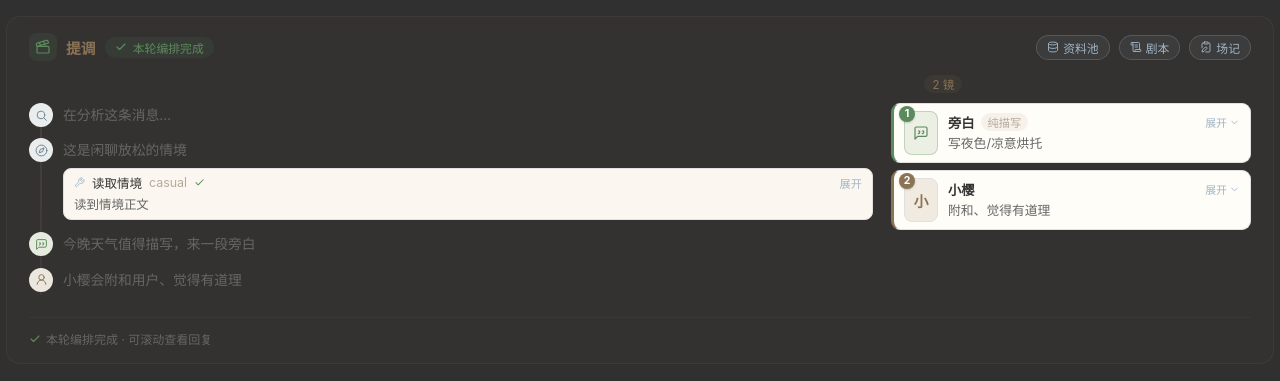
TidiaoDirectorStreamBand › 形态1·E5 角色镜钻取（per-speaker 过程可见性） › 有 shotDetails 的角色镜显示「点开」，展开后呈现步骤/情境/取料/评审提示
Click the 2nd button with class "tds-shot-drill" at x=1223, y=189, box [1205,181,1240,197]
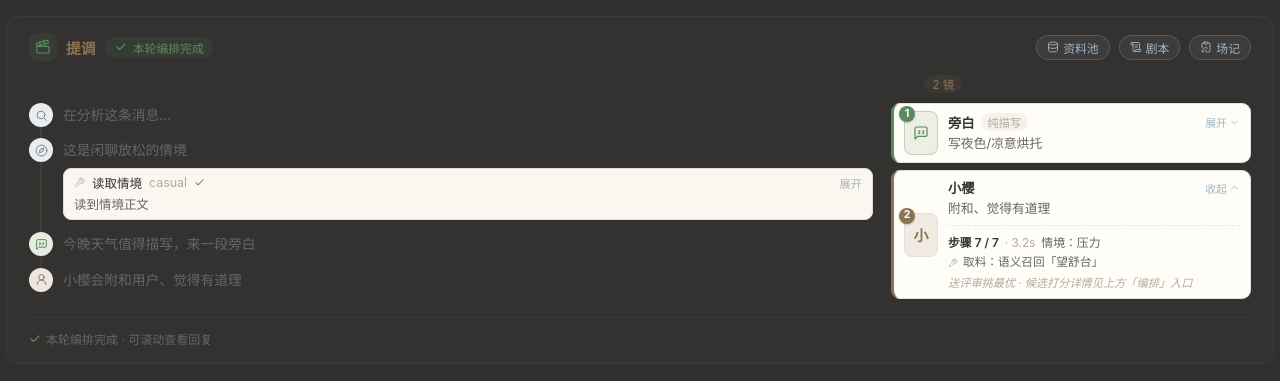
Now the element with class "tds-shot-detail" is shown, box [948,225,1240,291]
Now the element with class "tds-shot-detail" shows "7 / 7", box [948,236,999,250]
Now the element with class "tds-shot-detail" shows "压力", box [1041,236,1101,250]
